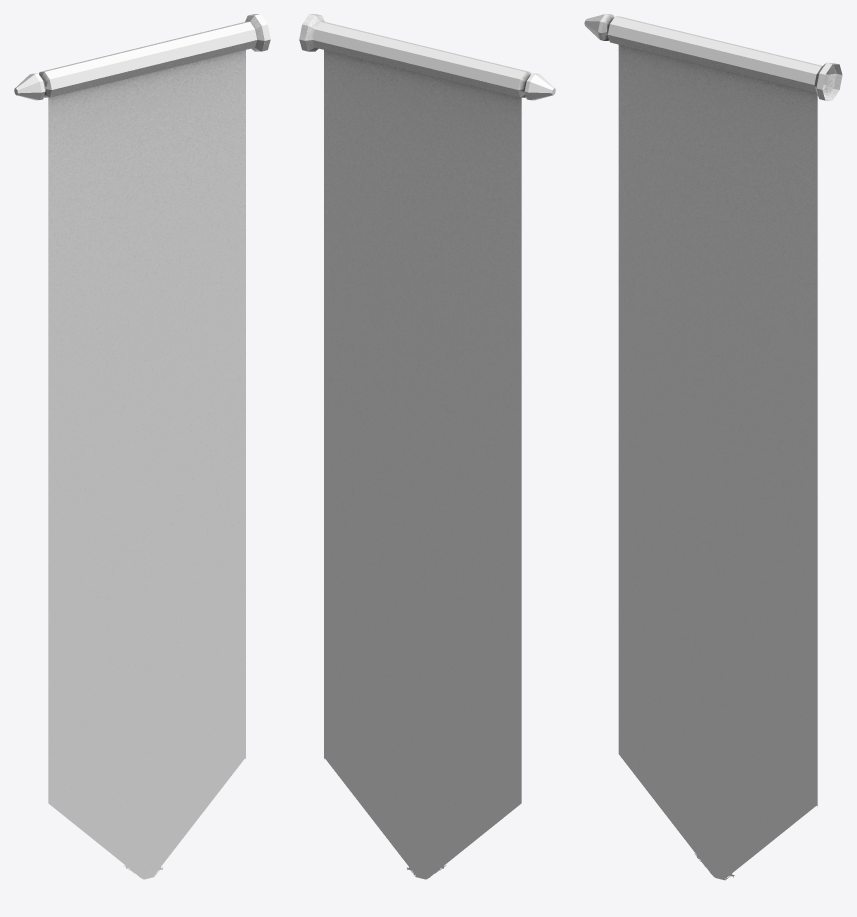
Rendered from Banner.fbx.
3 renders of one model, left to right at view 1: azimuth 30°, elevation 25°; view 2: azimuth 150°, elevation 25°; view 3: azimuth 330°, elevation 25°, orthographic.
Parts seen in each view (by area): view 1: Banner; view 2: Banner; view 3: Banner.
Boxes of the visible parts, <box> form: Banner: <box>14,14,270,879</box>; Banner: <box>299,14,555,879</box>; Banner: <box>584,14,842,880</box>.
Bounding box in the file's own units: 47.65 × 156 × 6.75.
